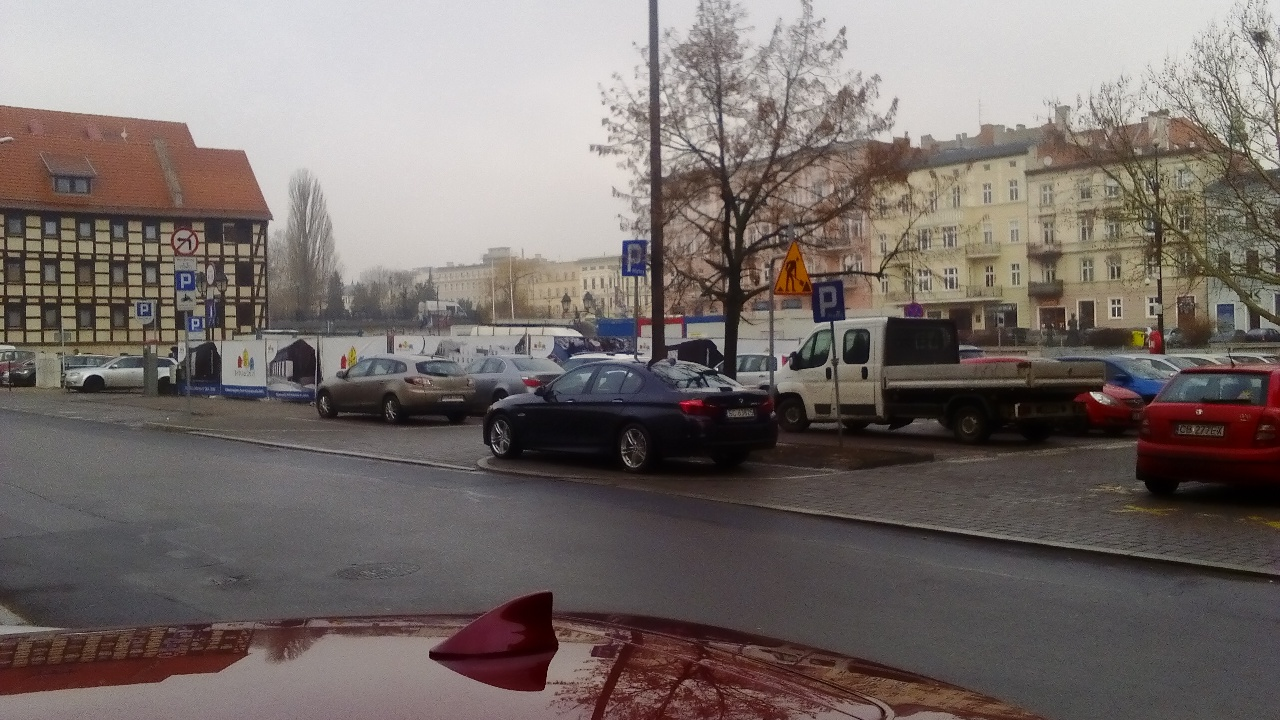A14: (774, 235, 813, 300)
B21: (166, 224, 205, 255)
D18: (807, 279, 853, 324), (619, 236, 653, 283)
